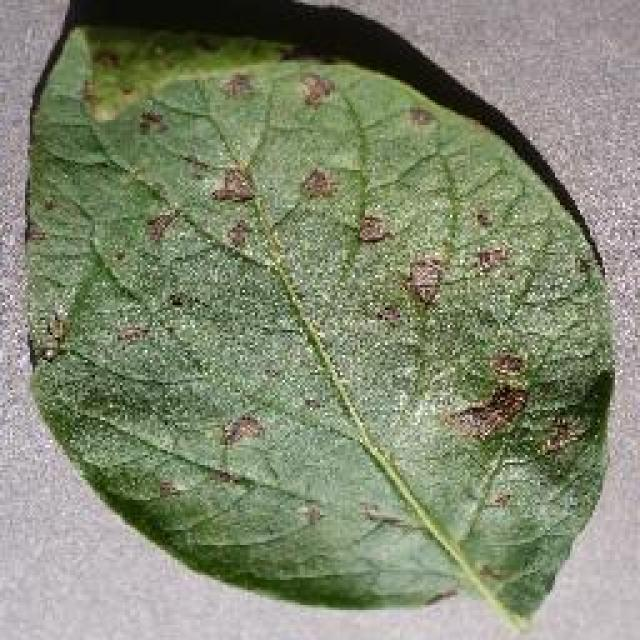early_blight: (20, 2, 618, 632)
